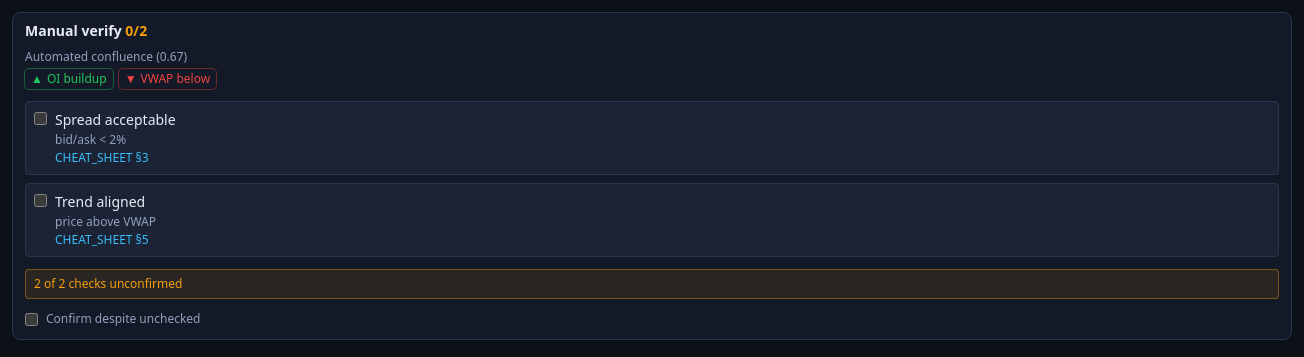
Test: ManualVerifyChecklist › starts unconfirmed with a warning, and confirms only once ALL checks are ticked
expect the message reads "2 of 2 checks unconfirmed": met, box x1=25 y1=269 x2=1279 y2=299
# tick one → partial: still not confirmed, warning updates
Click the checkbox labelled "Spread acceptable bid/ask < 2% CHEAT_SHEET §3".
click(40, 118)  # box x1=34 y1=112 x2=47 y2=125
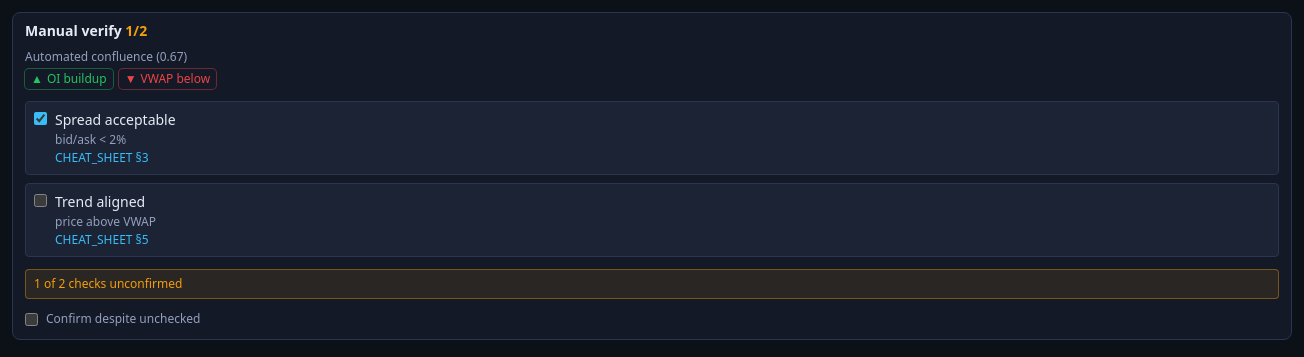
expect the message reads "1 of 2 checks unconfirmed": met, box x1=25 y1=269 x2=1279 y2=299
# tick the second → all ticked: confirmed, warning gone
Click the checkbox labelled "Trend aligned price above VWAP CHEAT_SHEET §5".
click(40, 200)  # box x1=34 y1=194 x2=47 y2=207
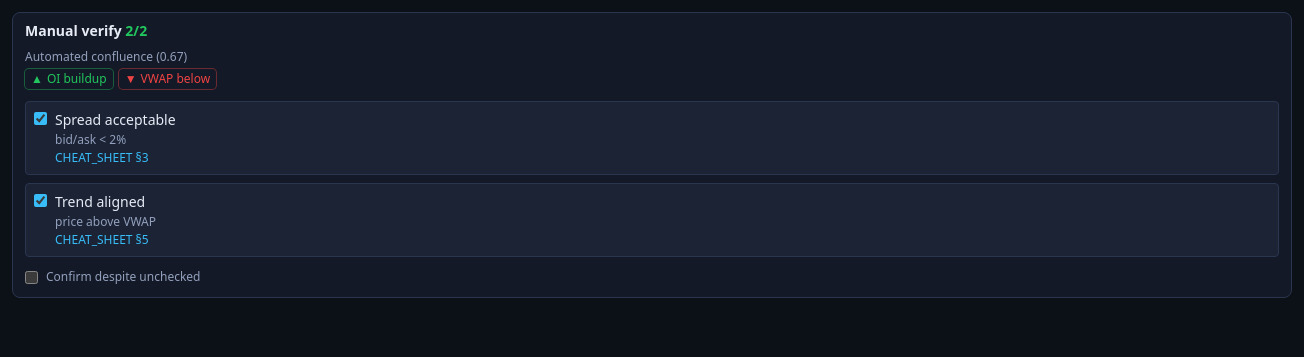
expect the message "1 of 2 checks unconfirmed" is gone: met
